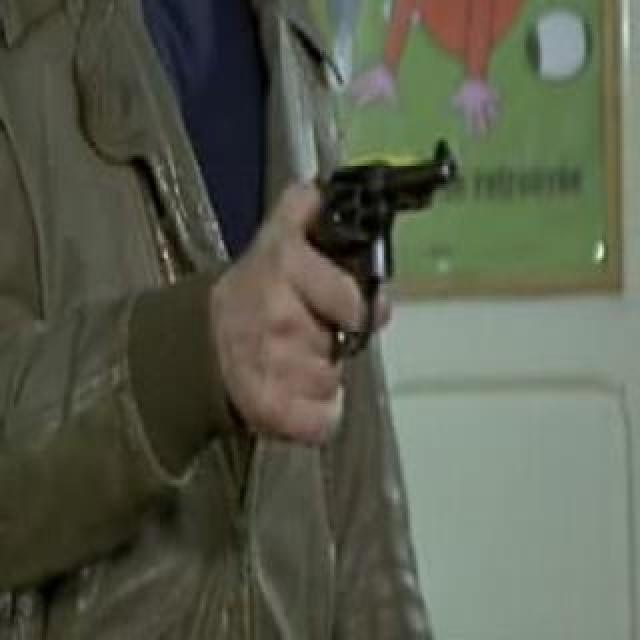Guns: (289, 129, 475, 357)
